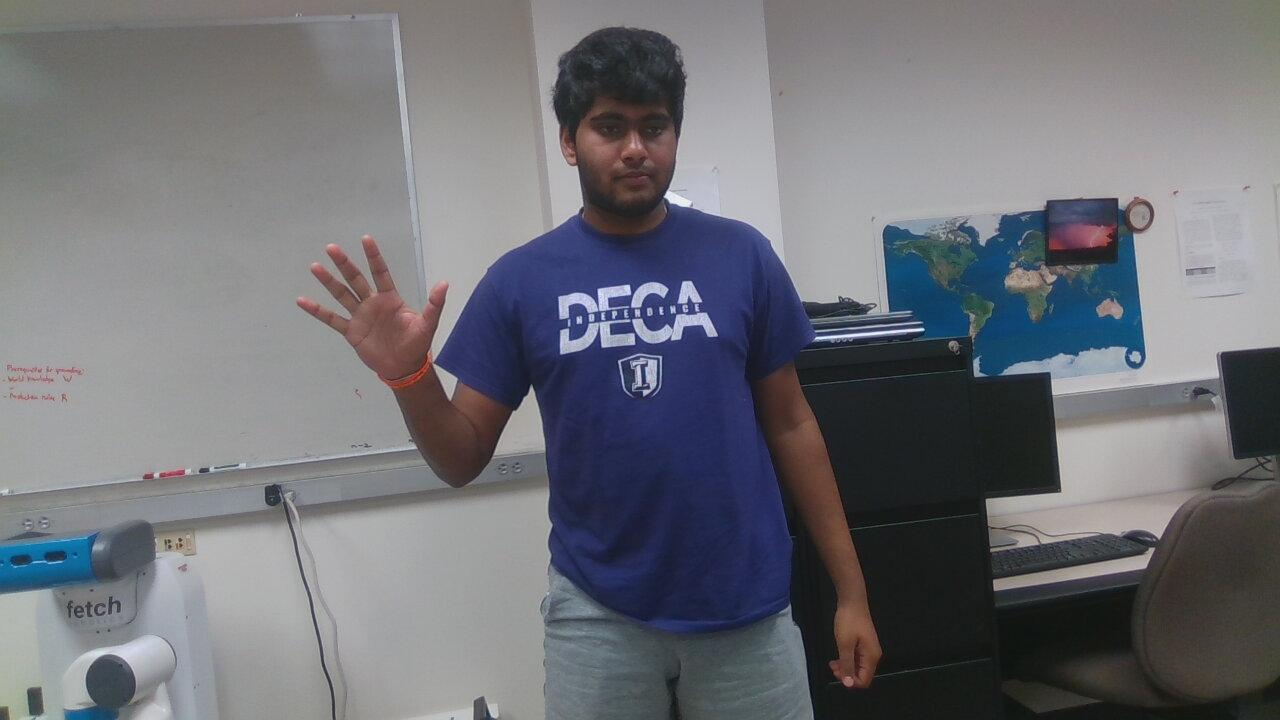hands: (303, 234, 452, 390), (826, 594, 885, 688)
